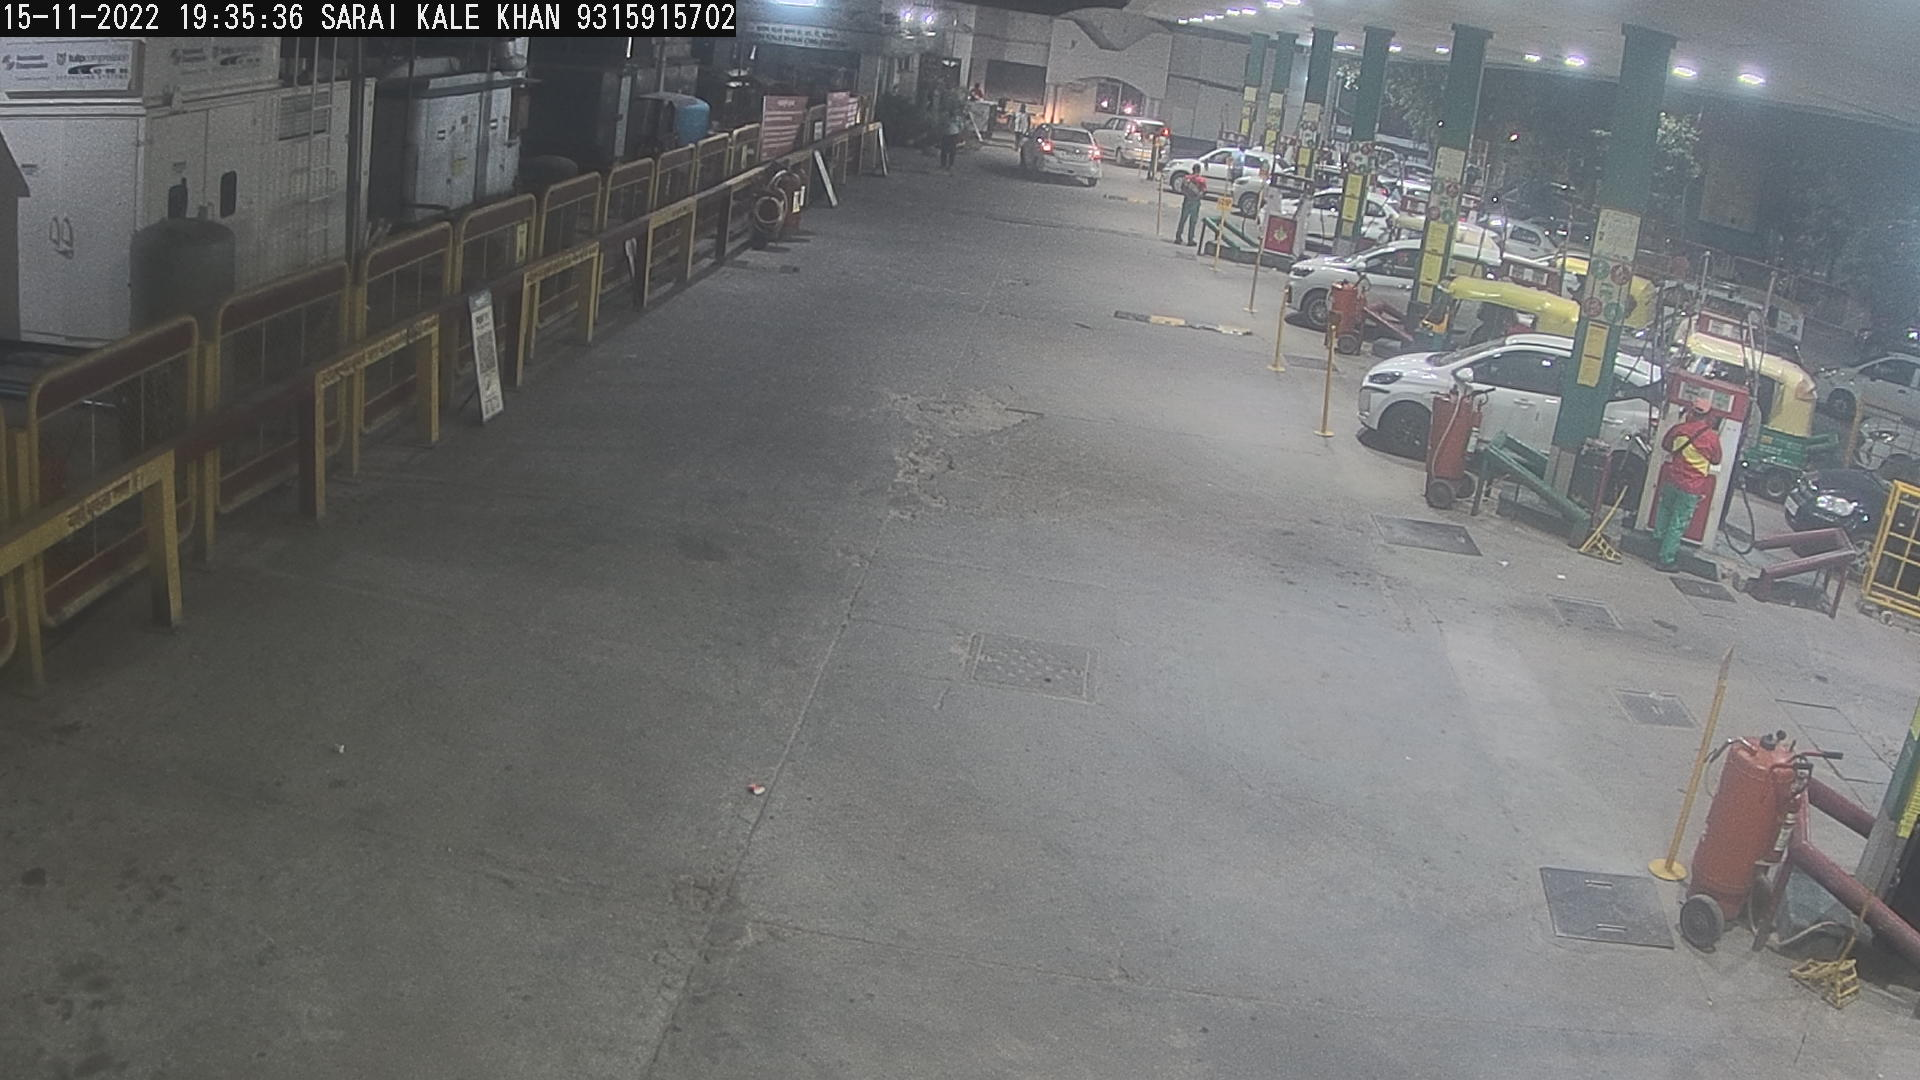Auto: (1639, 324, 1832, 526), (1375, 260, 1582, 392), (1691, 266, 1815, 375), (1349, 204, 1451, 272)
Car: (1320, 320, 1575, 504), (1770, 434, 1915, 620), (1262, 236, 1443, 344), (1797, 309, 1917, 454), (1145, 128, 1288, 225), (1638, 258, 1772, 360), (1828, 386, 1917, 506), (1010, 113, 1114, 194), (1083, 102, 1189, 175), (1462, 208, 1572, 280), (1257, 179, 1352, 260), (1842, 295, 1917, 389)
Others: (1648, 392, 1721, 582), (1166, 152, 1211, 253), (1141, 109, 1164, 191)
Others Other: (1634, 630, 1747, 903), (1261, 260, 1296, 396), (1320, 313, 1342, 446), (1211, 185, 1236, 274), (1244, 220, 1265, 323), (1150, 160, 1168, 247), (1149, 125, 1162, 191)
